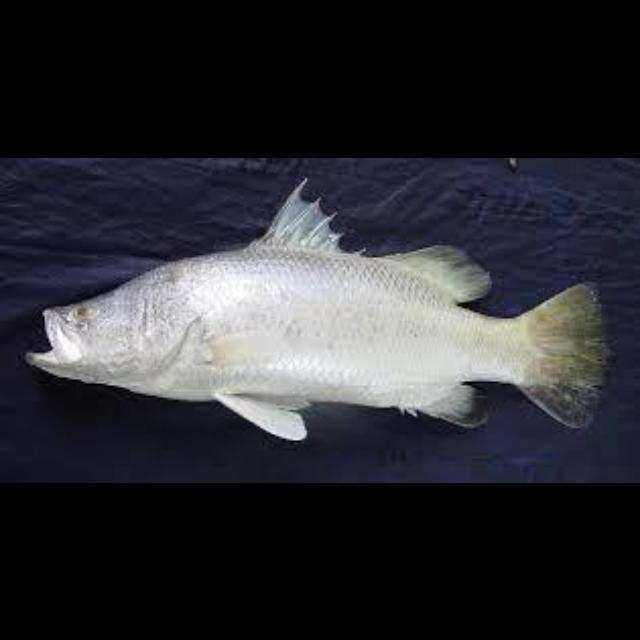Seabass: (24, 174, 606, 440)
